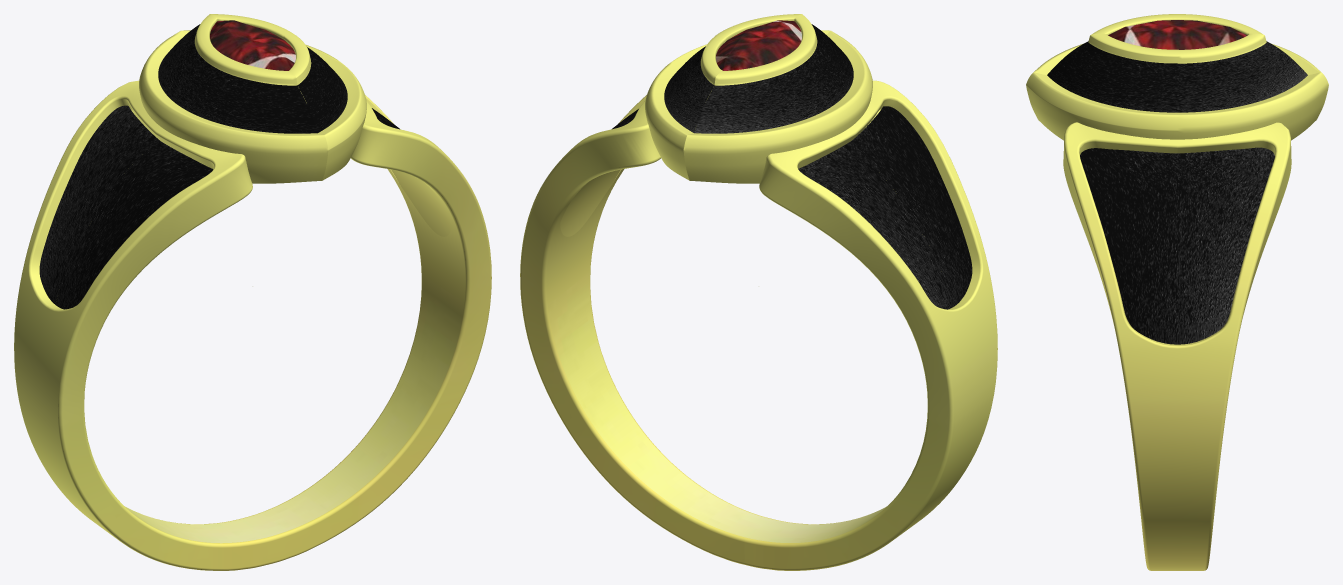
File: ring46.glb
3 renders of one model, left to right at view 1: azimuth 30°, elevation 25°; view 2: azimuth 150°, elevation 25°; view 3: azimuth 270°, elevation 25°, orthographic.
Parts seen in each view (by area): view 1: body, black, core; view 2: body, black, core; view 3: body, black, core.
Part boxes in pixels (<box>): body: <box>14,14,491,570</box>; black: <box>39,24,399,309</box>; core: <box>210,20,295,70</box>; body: <box>520,14,997,570</box>; black: <box>612,24,972,309</box>; core: <box>716,20,801,70</box>; body: <box>1026,14,1328,570</box>; black: <box>1047,41,1307,344</box>; core: <box>1108,20,1247,49</box>.
Size of the model in its own units: 20.65 by 23.51 by 12.41.
Materials: 4 (4 with a texture image).
